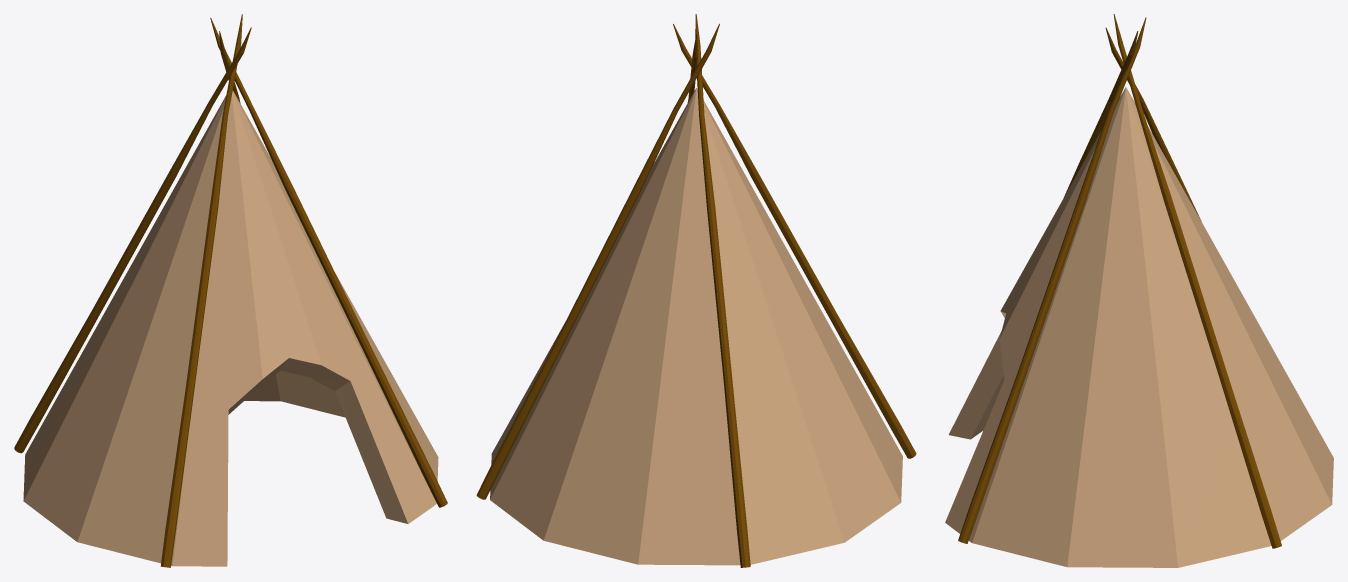
File: Prop_Tent_01.fbx
The picture shows the model from 3 angles, left to right: view 1: azimuth 30°, elevation 25°; view 2: azimuth 150°, elevation 25°; view 3: azimuth 270°, elevation 25°; orthographic projection.
Visible parts, largest first — view 1: Prop_Tent_01; view 2: Prop_Tent_01; view 3: Prop_Tent_01.
Boxes of the visible parts, x1,y1,x2,y2 form: Prop_Tent_01: (14,14,447,567); Prop_Tent_01: (476,14,916,567); Prop_Tent_01: (945,14,1333,567).
Bounding box in the file's own units: 169 × 206 × 158.
